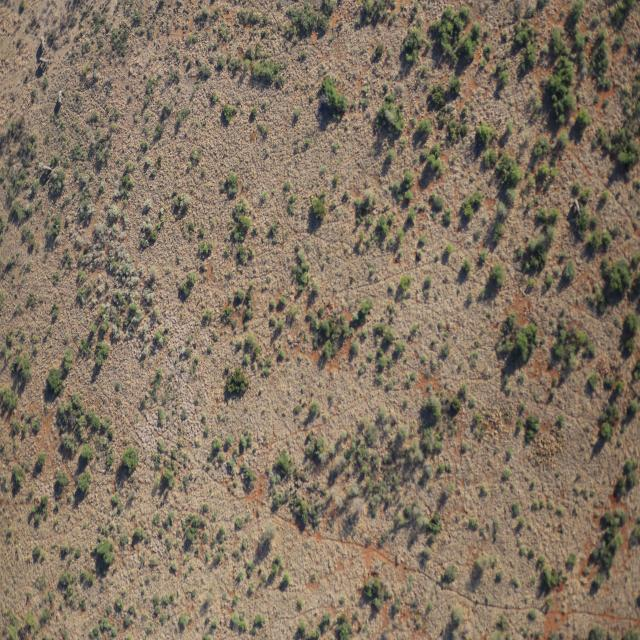elephant: (574, 199, 581, 215), (40, 36, 46, 49), (58, 90, 62, 104), (42, 166, 52, 170), (40, 58, 49, 62)
